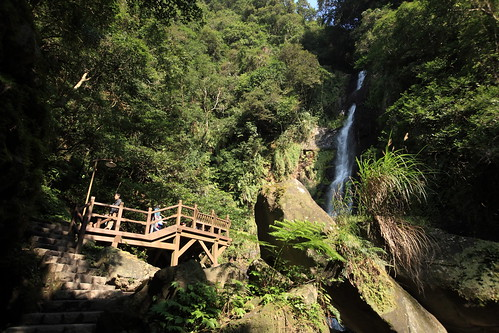wufengciWaterfall: (318, 58, 387, 230)
